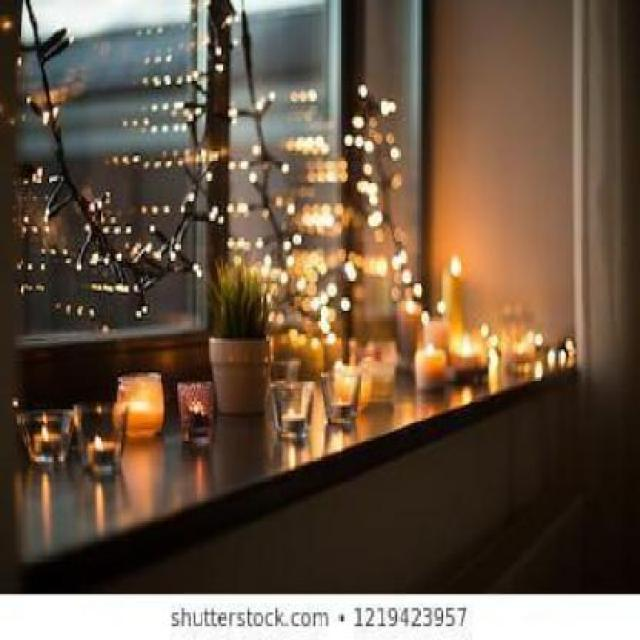Fire: (85, 423, 108, 457), (442, 250, 464, 278), (35, 421, 57, 447), (283, 402, 303, 428), (420, 332, 436, 354)
